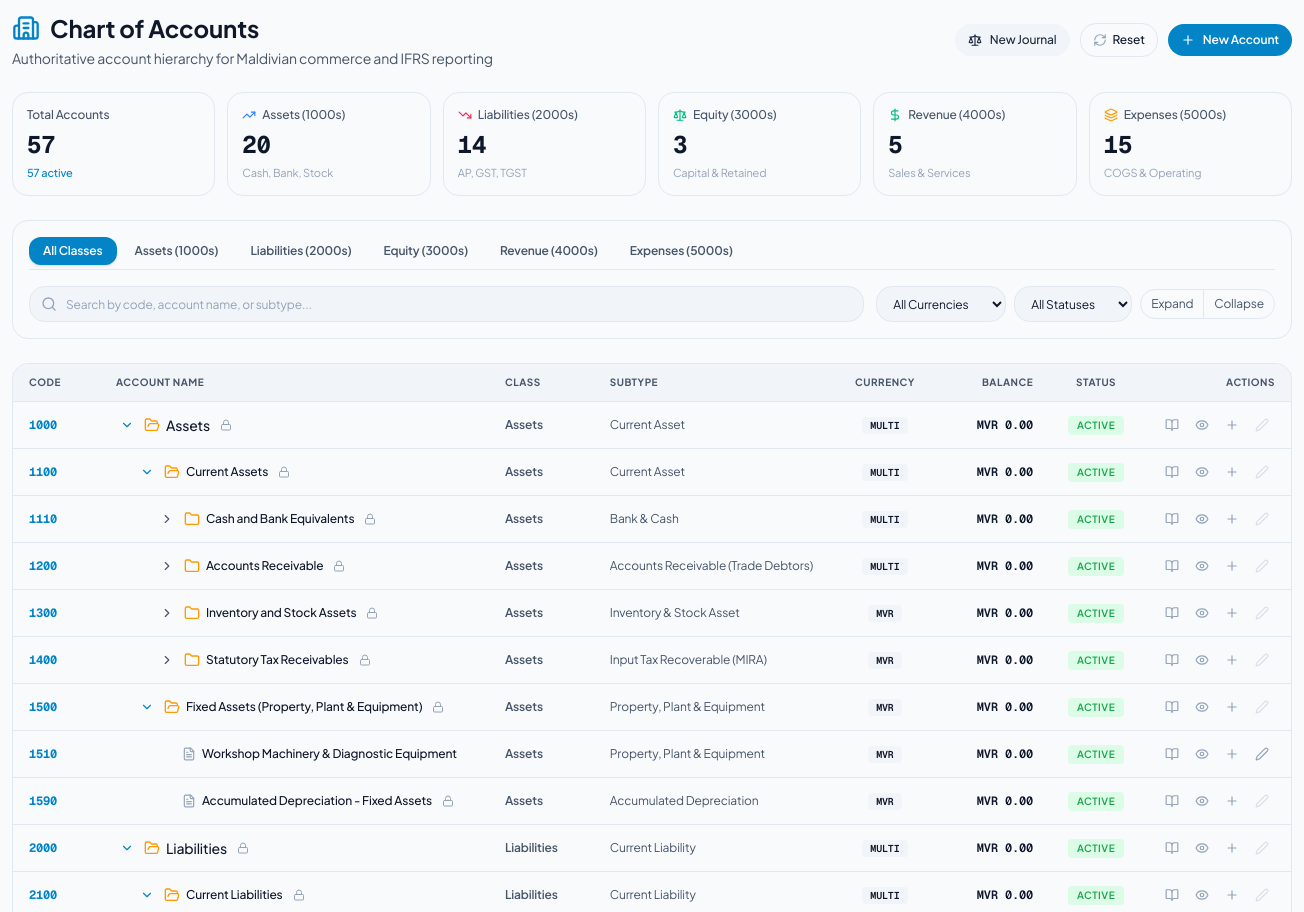
AccountsView Component & Interactions › filters accounts by classification tab
Click on Liabilities tab
Click the button "Liabilities (2000s)" at [301, 251], box 236,237 -> 366,265
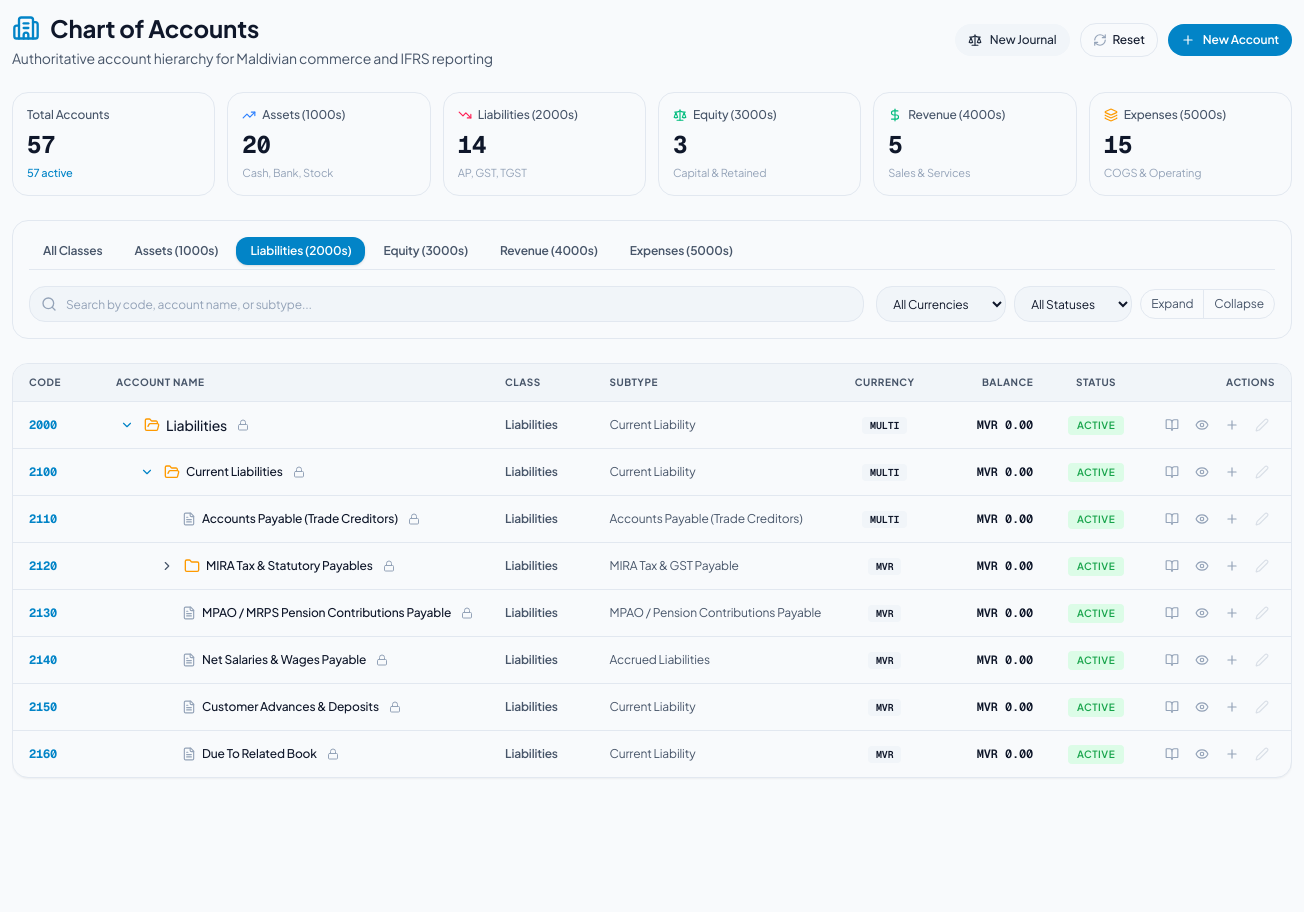
Expected: the row with test id "account-row-2000" is shown, 13,402 -> 1291,449
Result: the row with test id "account-row-1000" is gone
